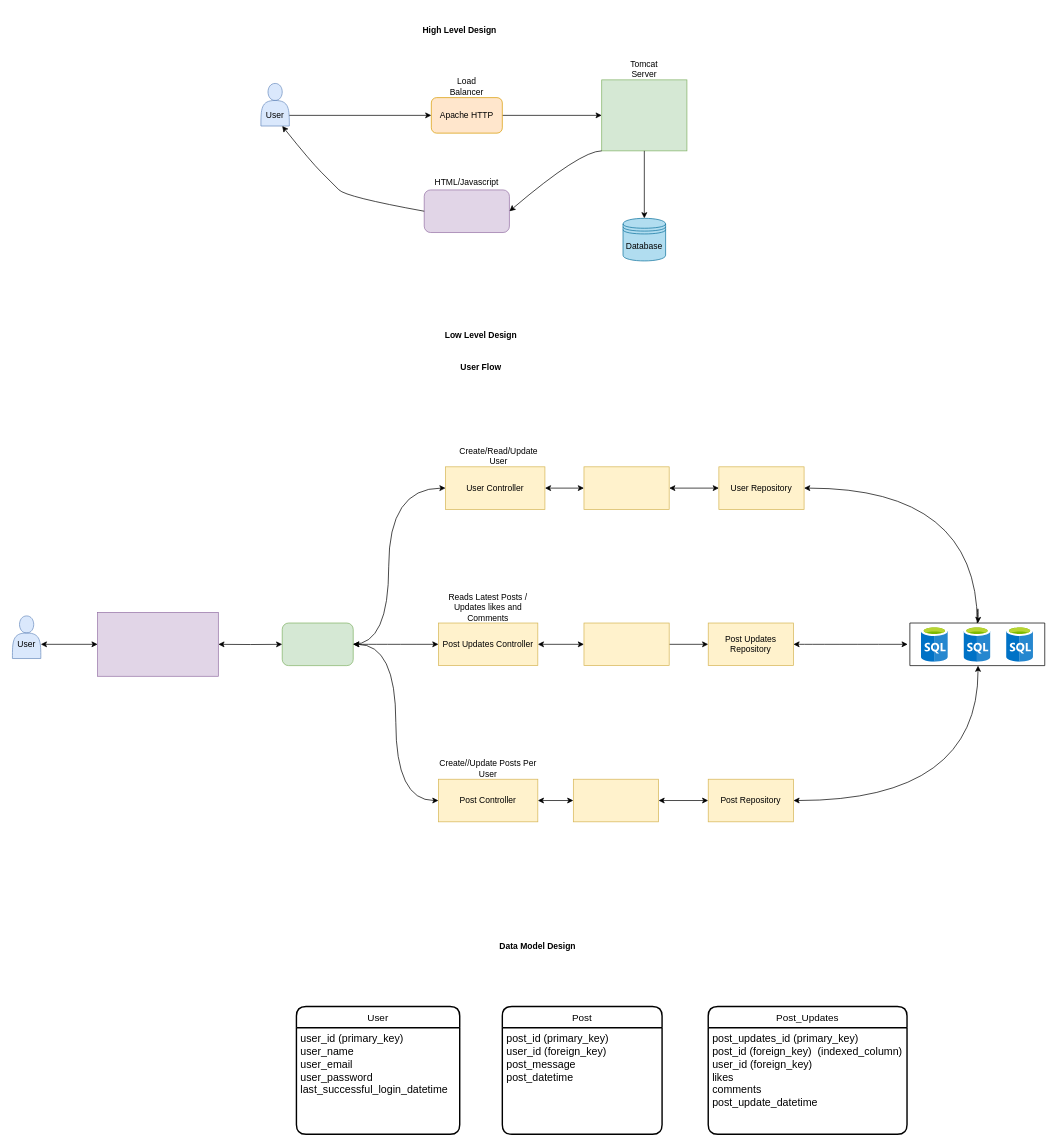
This 1057x1147 diagram has some shape labels left out. The box of each missing label's shape, as (x1, y1, x2, y2) in pixels:
Dispatcher Servlet: (282, 622, 353, 666)
Post Service: (573, 779, 659, 822)
Post Updates Service: (583, 622, 669, 666)
Respective Views: (97, 612, 218, 676)
Spring MVC Application: (601, 79, 687, 151)
User Service: (583, 466, 669, 509)
View: (424, 189, 509, 233)
